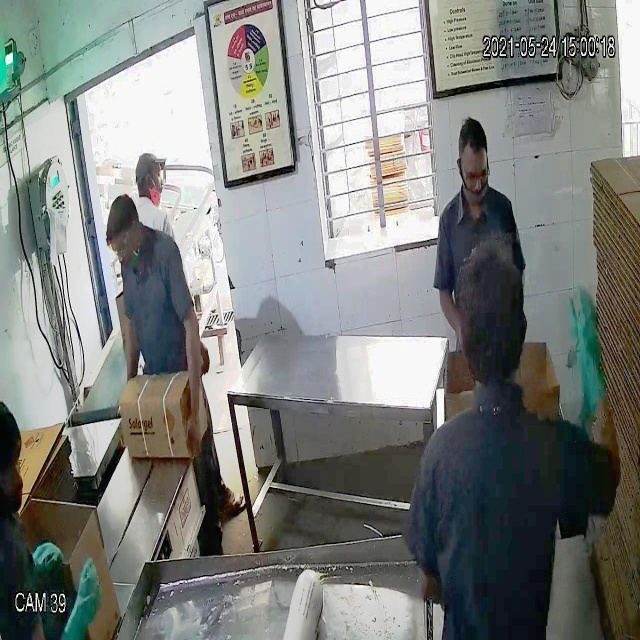Gafas: (455, 154, 491, 190)
